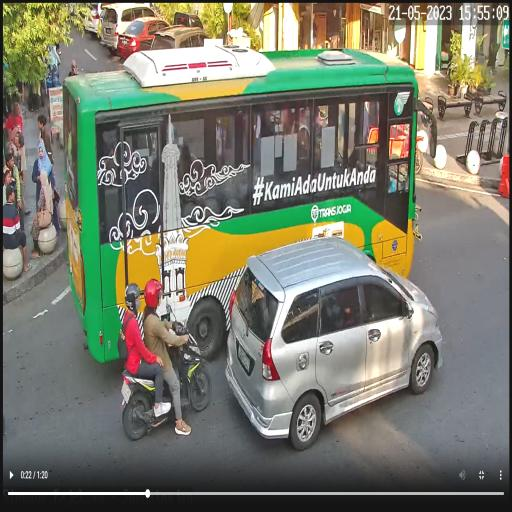mobil: (59, 42, 427, 360), (224, 241, 447, 446)
motor: (113, 314, 210, 452)
